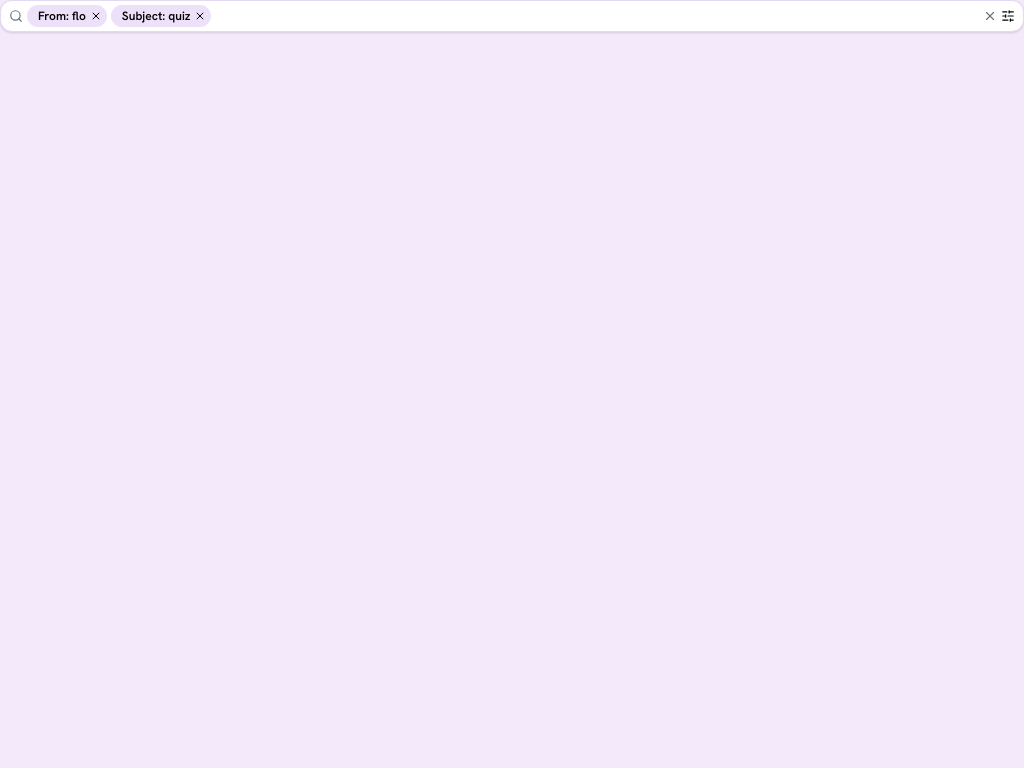
Scenario: InboxSearchBar — filter panel › opens showing the filters that are already active
The width and height of the screenshot is (1024, 768).
Click the button named "Filter inbox".
click(1008, 16)  # box [1001,9,1015,23]
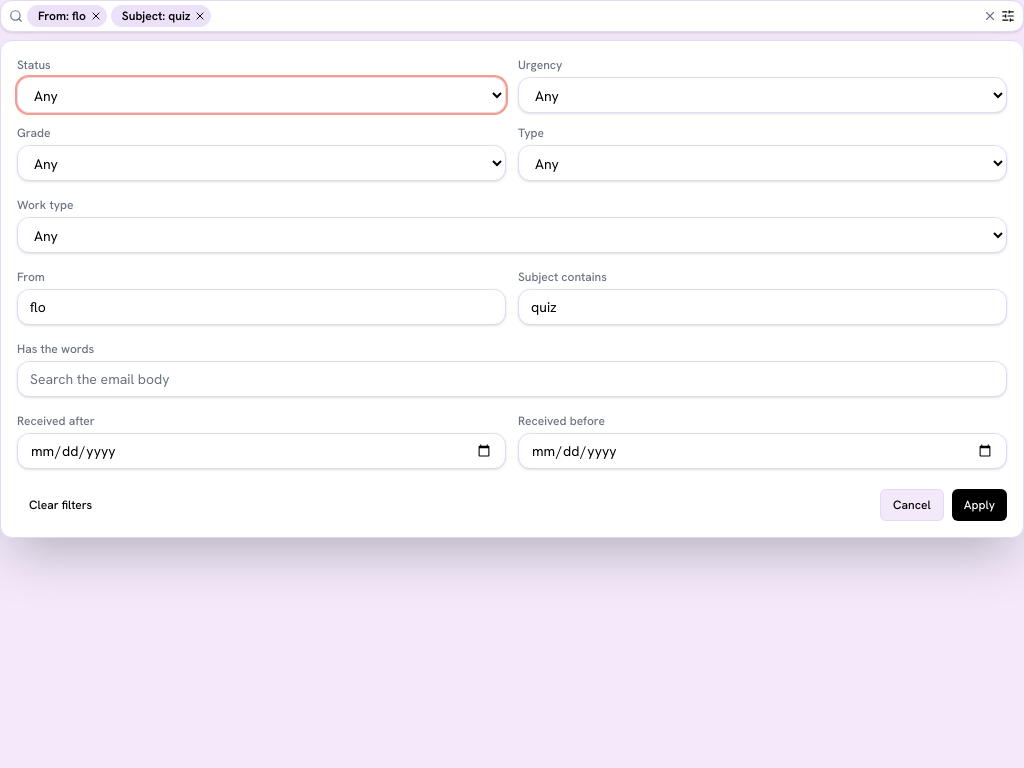
Expected: the field with placeholder "Name or email" holds "flo", [17,289,506,325]
Expected: the field with placeholder "Subject text" holds "quiz", [518,289,1007,325]
